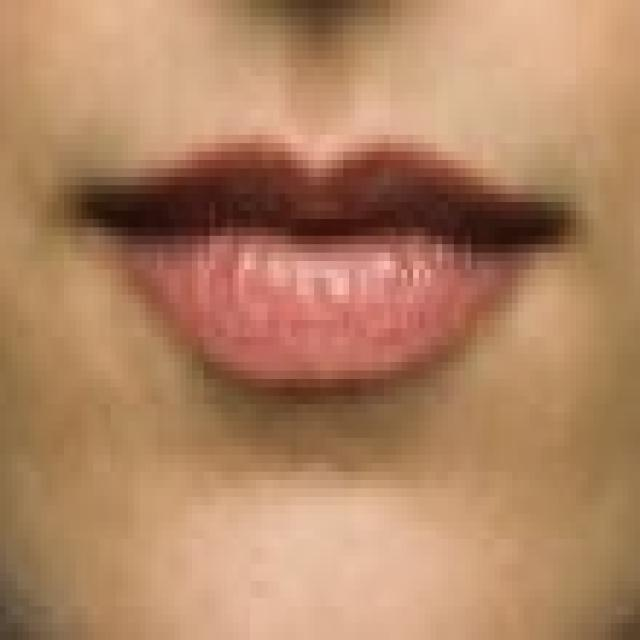closed-mouth: (58, 118, 576, 396)
